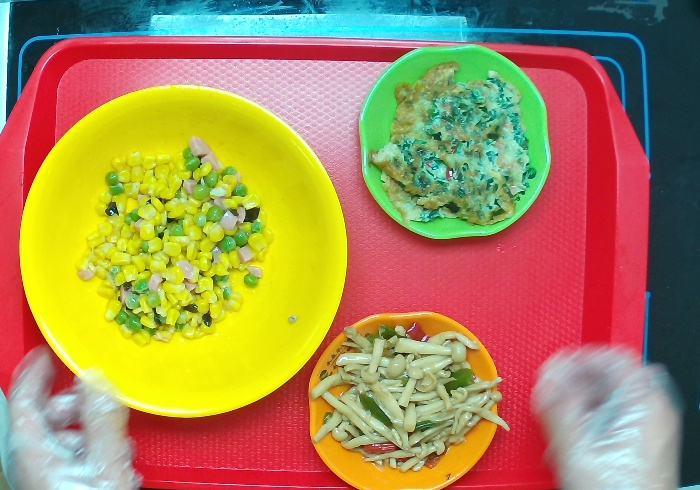YKMZ-Huang_Se_Tang_Wan: (14, 87, 353, 420)
YKMZ-Ju_Se_Ao_Bian_Wan: (309, 315, 506, 490)
YKMZ-Lv_Se_Ao_Bian_Wan: (354, 46, 550, 247)
